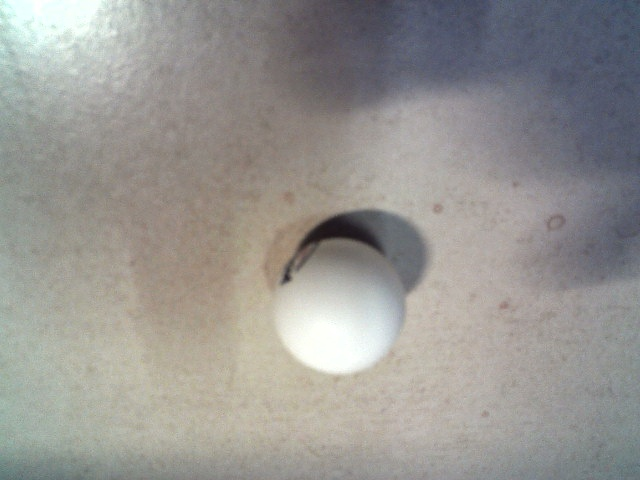pingpong: (273, 237, 404, 373)
